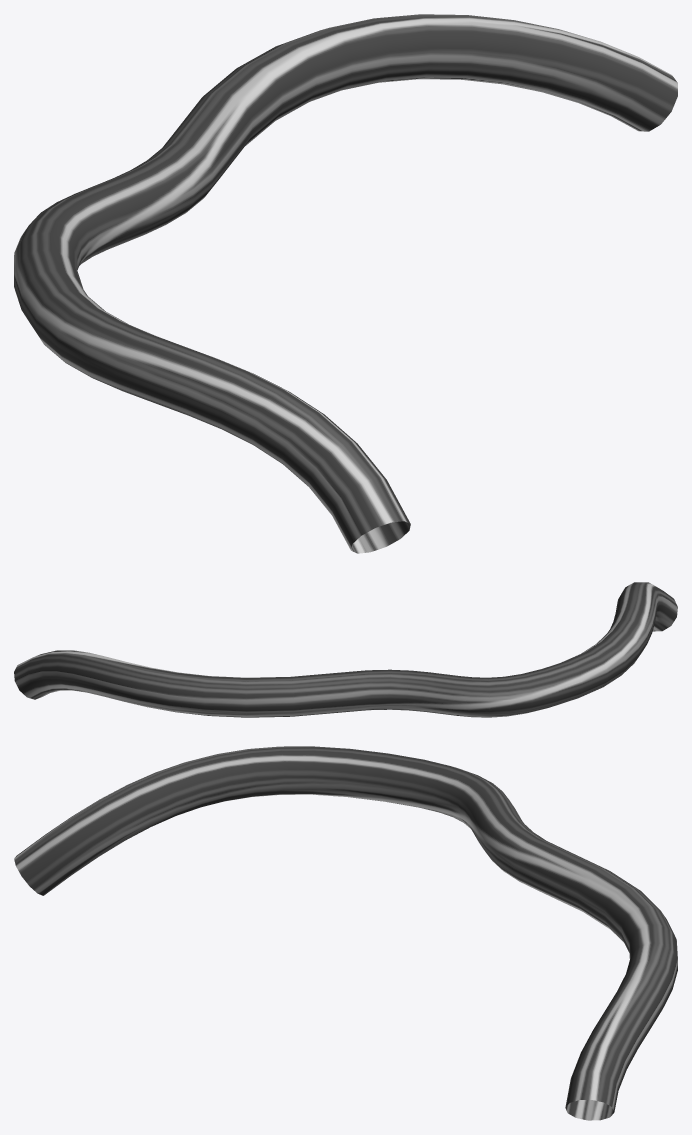
File: ChurnerTurningPipeB.fbx
3 renders of one model, top to bottom at view 1: azimuth 30°, elevation 25°; view 2: azimuth 150°, elevation 25°; view 3: azimuth 270°, elevation 25°, orthographic. The views are drawn at different scales.
Visible parts, largest first — view 1: ChurnerTurningPipeB_LOD0; view 2: ChurnerTurningPipeB_LOD0; view 3: ChurnerTurningPipeB_LOD0.
Boxes of the visible parts, <box> form: ChurnerTurningPipeB_LOD0: <box>14,14,677,553</box>; ChurnerTurningPipeB_LOD0: <box>14,582,677,717</box>; ChurnerTurningPipeB_LOD0: <box>14,746,677,1120</box>.
Size of what is drawn, in the model's own units: 662 by 112 by 633.
